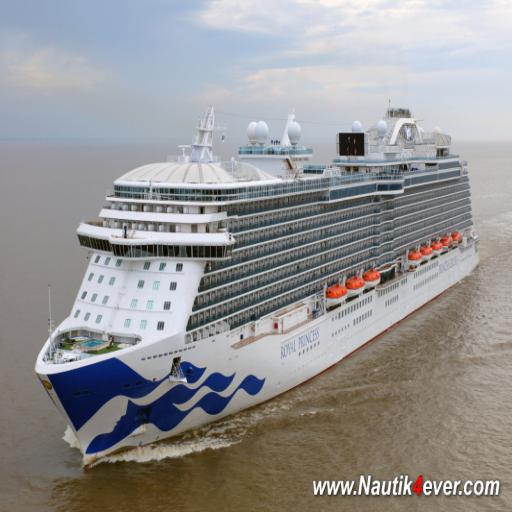cruises: (34, 79, 483, 461)
